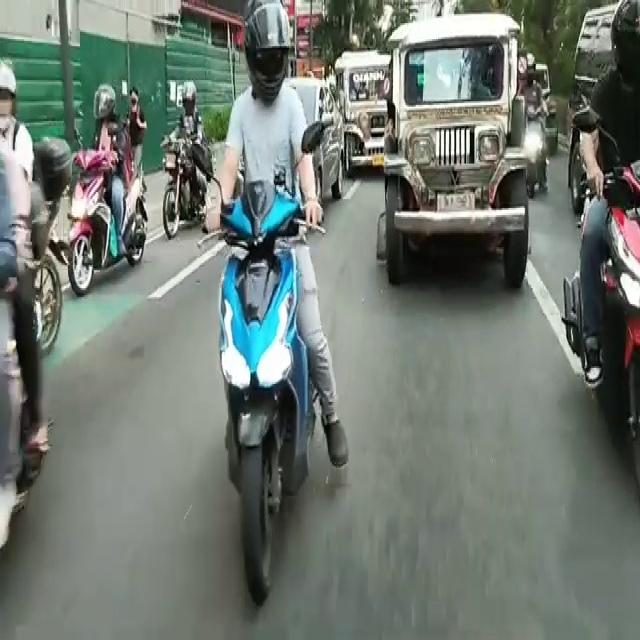jeepney: (374, 33, 526, 285), (340, 56, 391, 172)
motorcycle: (206, 38, 327, 566), (579, 64, 640, 453), (0, 79, 46, 556), (55, 97, 155, 292), (167, 100, 219, 252)
